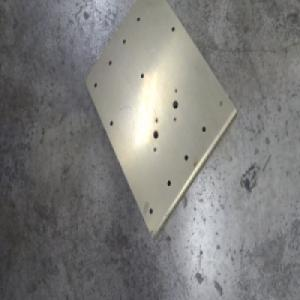MetalSheet: (84, 0, 238, 243)
